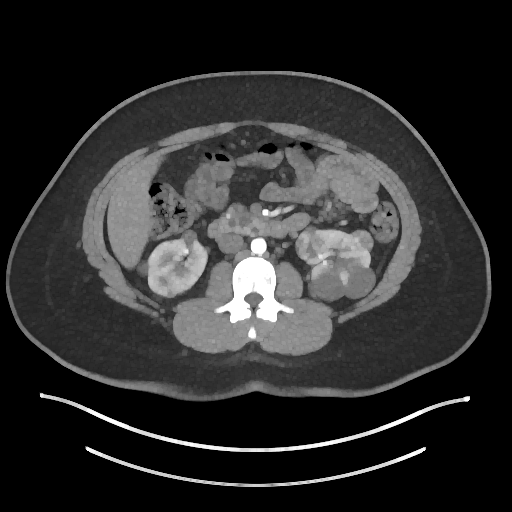Lesion: (293, 225, 329, 263)
